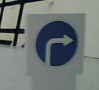right: (35, 20, 79, 67)
